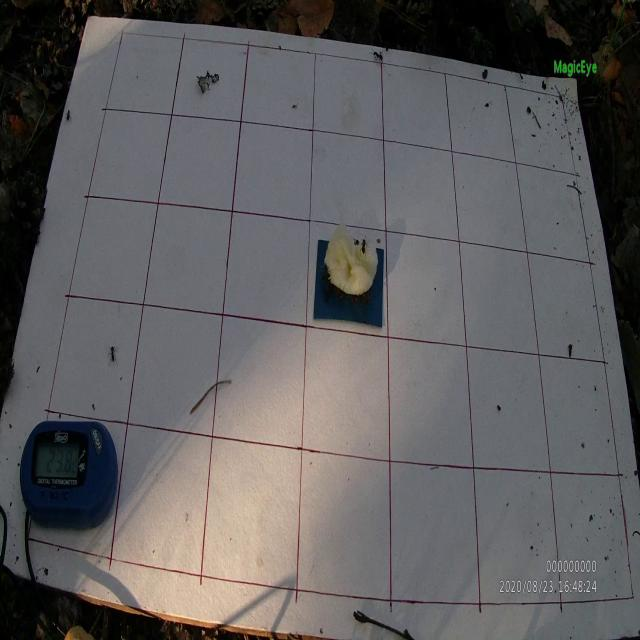Ant: (358, 236, 369, 262), (108, 346, 118, 368), (369, 49, 383, 63), (66, 108, 70, 121)
